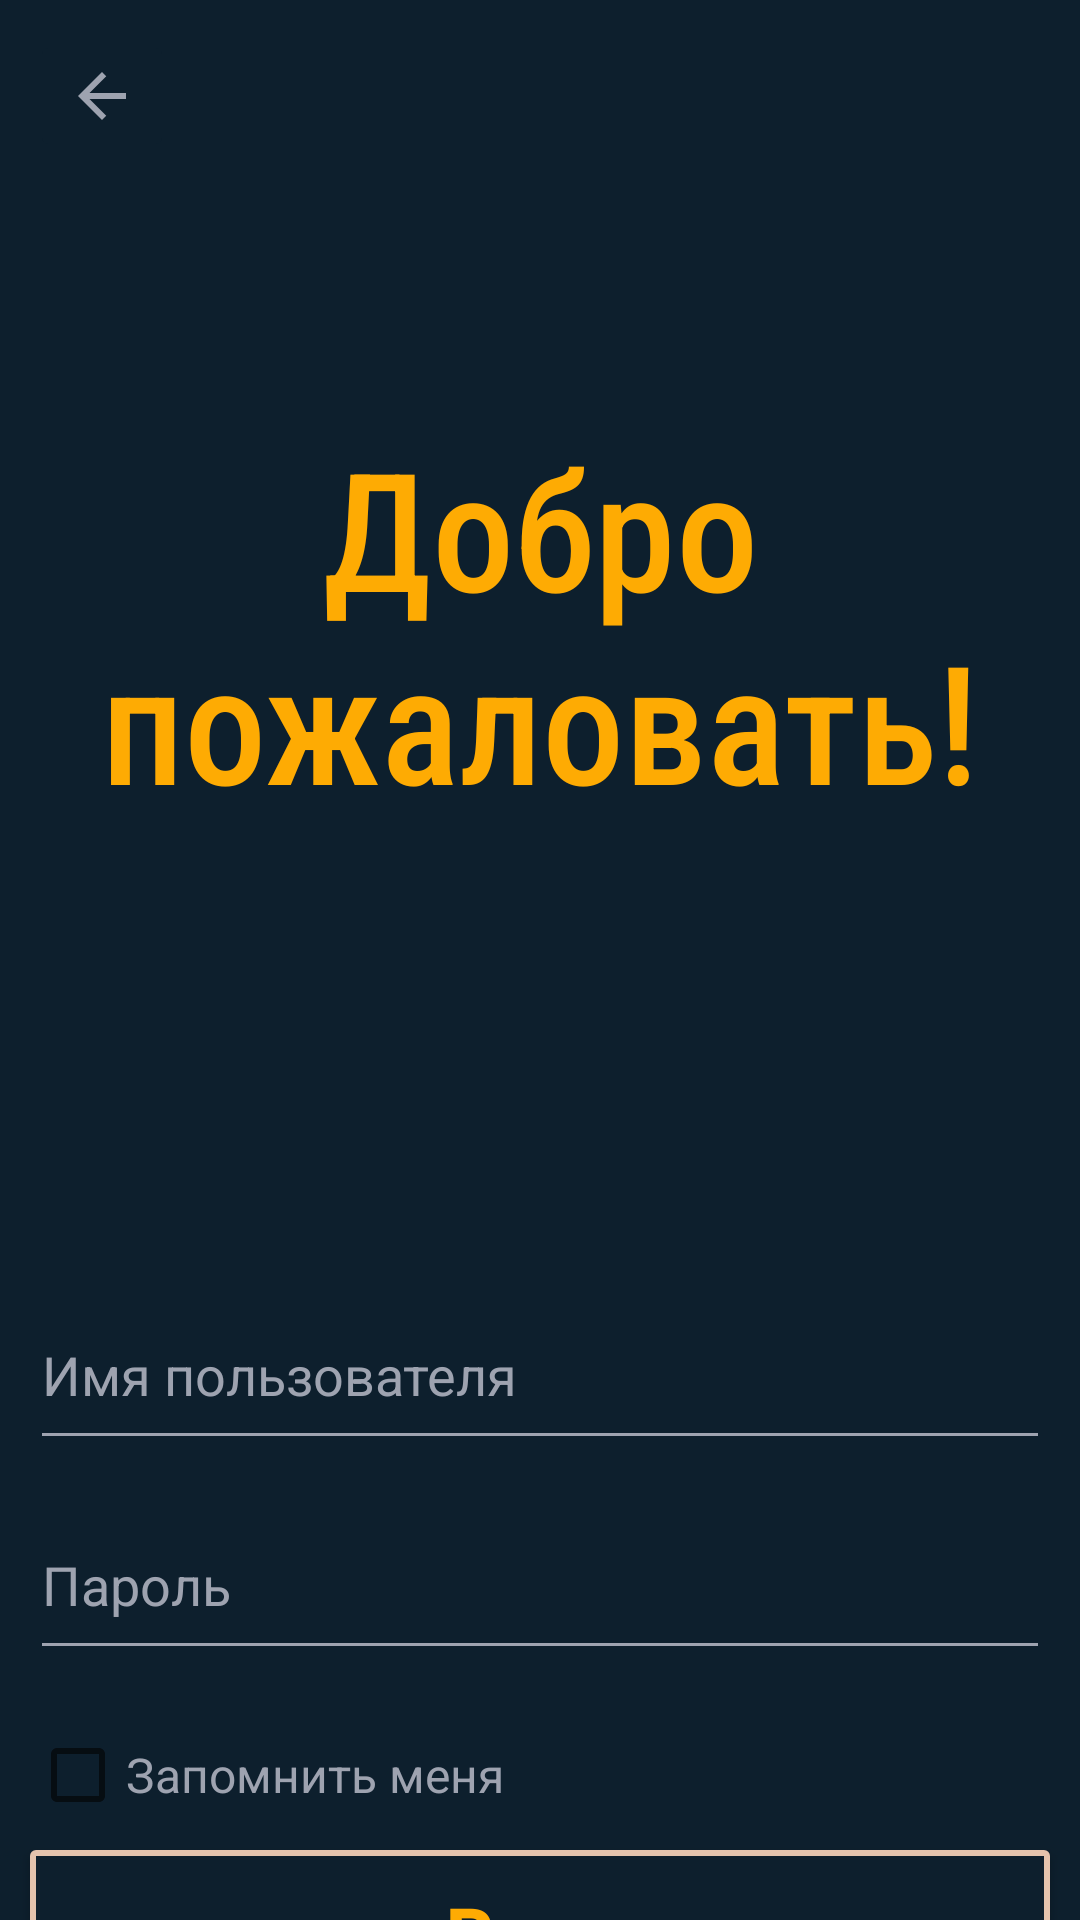

Icon bounding boxes for this 1080×1920 phone screenshot, format {"left": x1, "top": y1, "right": x2, "bottom": y2}:
arrow back hovered: {"left": 78, "top": 72, "right": 126, "bottom": 120}
